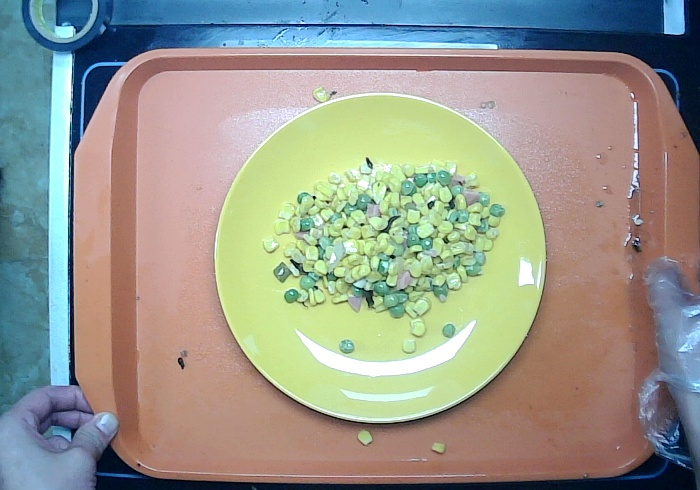HZYJPL-Huang_Se_Yuan_Pan: (212, 90, 549, 427)
